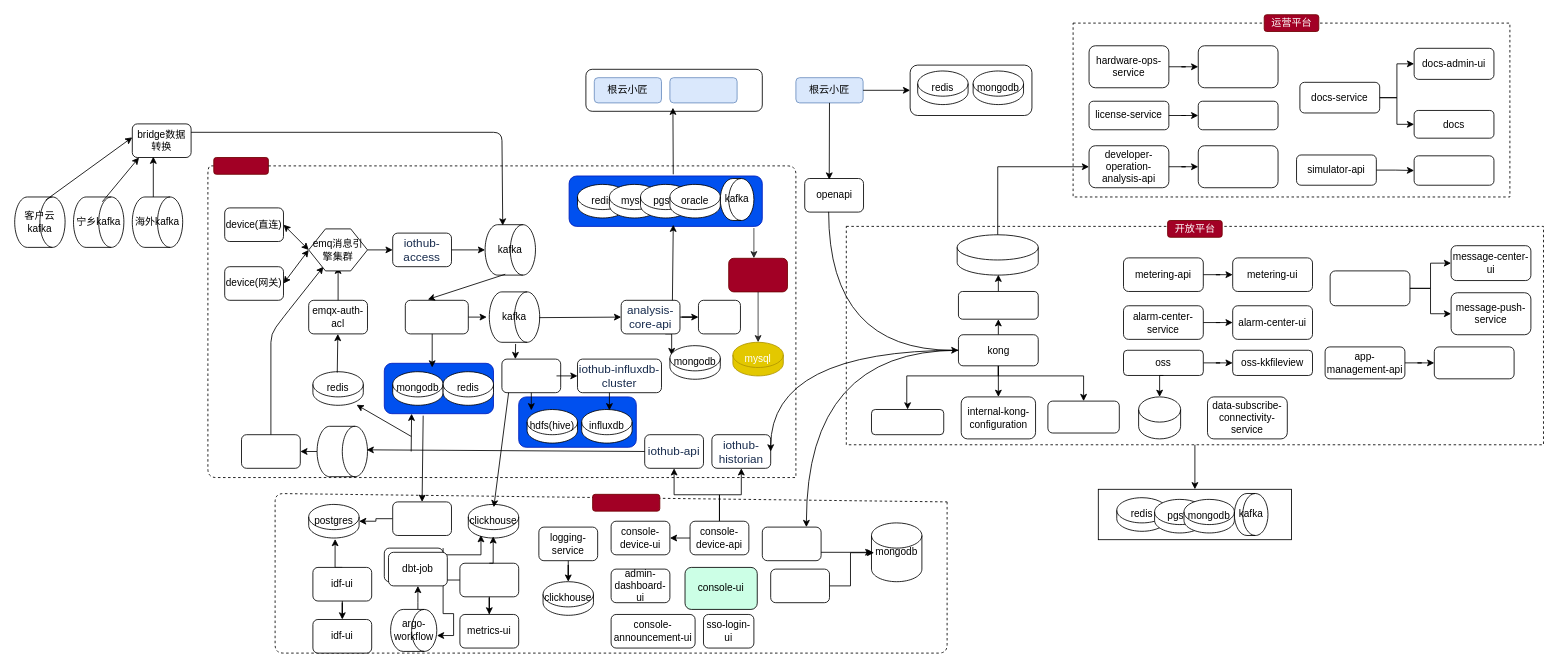
This 1558x669 diagram has some shape labels left out. The centre of each missing label's shape, as x and y in pixels:
"analysis-ui" belongs at pixel 719 316.
"app-management-ui" belongs at pixel 1473 362.
"backend-receiver" belongs at pixel 998 305.
"developer-operation-analysis-ui" belongs at pixel 1237 166.
"eca集群" belongs at pixel 436 316.
"flume" belongs at pixel 531 375.
"grant-service" belongs at pixel 800 585.
"graylog" belongs at pixel 997 254.
"hardware-ops-ui" belongs at pixel 1237 66.
"identity-service" belongs at pixel 791 543.
"idf-etl" belongs at pixel 422 518.
"instruction-proxy" belongs at pixel 270 451.
"internal-kong" belongs at pixel 907 422.
"kong-configuration" belongs at pixel 1083 416.
"license-ui" belongs at pixel 1237 115.
"message-center-service" belongs at pixel 1369 288.
"metrics-service" belongs at pixel 489 579.
"MINIO" belongs at pixel 1159 417.
"rabbitmq" belongs at pixel 342 451.
"simulator-ui" belongs at pixel 1453 170.
"业务监 控平台" belongs at pixel 758 274.
"应用赋能平台" belongs at pixel 626 502.
"数据平台" belongs at pixel 240 165.
"能源管理" belongs at pixel 703 90.
